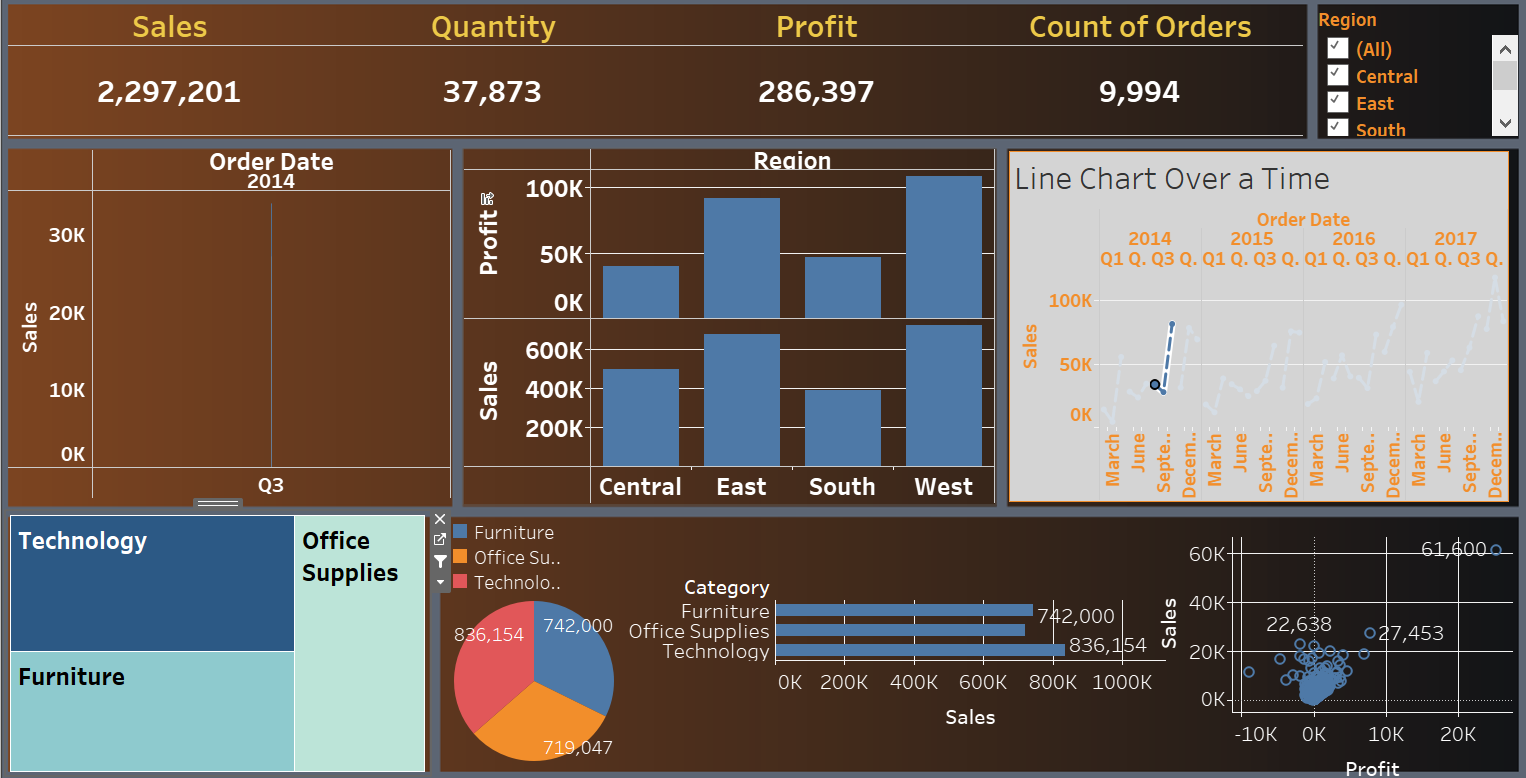

This screenshot's page, from the dashboard's own definition file:
{"tool":"tableau","page":{"name":"Dashboard 1","canvas":[1580,900],"ordinal":0},"visuals":[{"type":"title","box":[8,8,1564,18]},{"type":"image","param":"C:/Users/Umair/Desktop/HR.png","box":[8,26,1564,866]},{"type":"text","box":[32,30,1514,76]},{"type":"worksheet","title":"kpis","mark":"Automatic","box":[34,114,1295,131]},{"type":"filter","title":"line","param":"[federated.0lrgy021i2201y19tmmid112zcjc].[none:Region:nk]","box":[1344,115,200,130]},{"type":"worksheet","title":"Sheet 7","mark":"Automatic","rows":["Profit","Sales"],"cols":["Region"],"box":[490,258,531,355]},{"type":"worksheet","title":"Sheet 10","mark":"Area","rows":["Sales"],"cols":["Order Date","Order Date"],"box":[34,259,443,349]},{"type":"worksheet","title":"line","mark":"Automatic","rows":["Sales"],"cols":["Order Date","Order Date","Order Date"],"box":[1035,260,500,351]},{"type":"worksheet","title":"tree map","mark":"Automatic","box":[32,620,424,264]},{"type":"legend","title":"pie","param":"[federated.0lrgy021i2201y19tmmid112zcjc].[none:Category:nk]","box":[474,628,125,77]},{"type":"worksheet","title":"scatter","mark":"Automatic","rows":["Sales"],"cols":["Profit"],"box":[1173,646,366,252]}]}

Visuals, with their boxes on the page's 1580x900 design canvas (x1, y1, x2, y2). These are canvas units, not pixel positions in the 1526x778 screenshot, which may show the page scaled, cropped or inside an application window:
title: detection(8, 8, 1572, 26)
image: detection(8, 26, 1572, 892)
text: detection(32, 30, 1546, 106)
"kpis" worksheet: detection(34, 114, 1329, 245)
"line" filter: detection(1344, 115, 1544, 245)
"Sheet 7" worksheet: detection(490, 258, 1021, 613)
"Sheet 10" worksheet (Area marks): detection(34, 259, 477, 608)
"line" worksheet: detection(1035, 260, 1535, 611)
"tree map" worksheet: detection(32, 620, 456, 884)
"pie" legend: detection(474, 628, 599, 705)
"scatter" worksheet: detection(1173, 646, 1539, 898)
